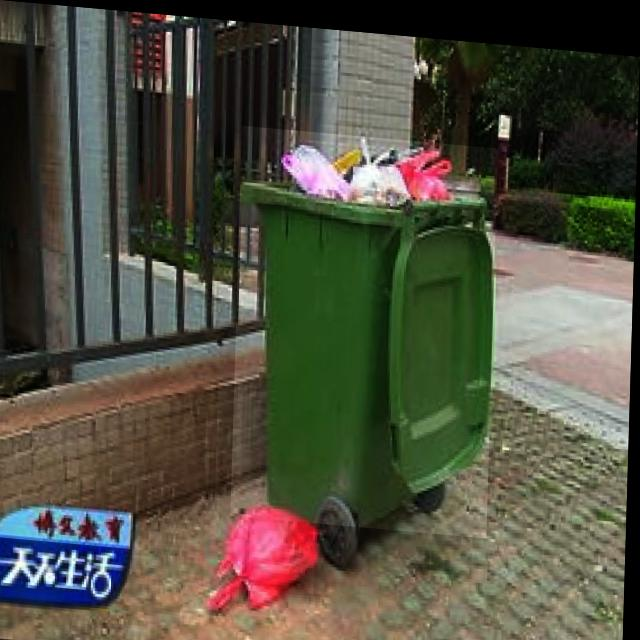garbage: (206, 490, 319, 616)
overflow: (234, 121, 499, 529)
